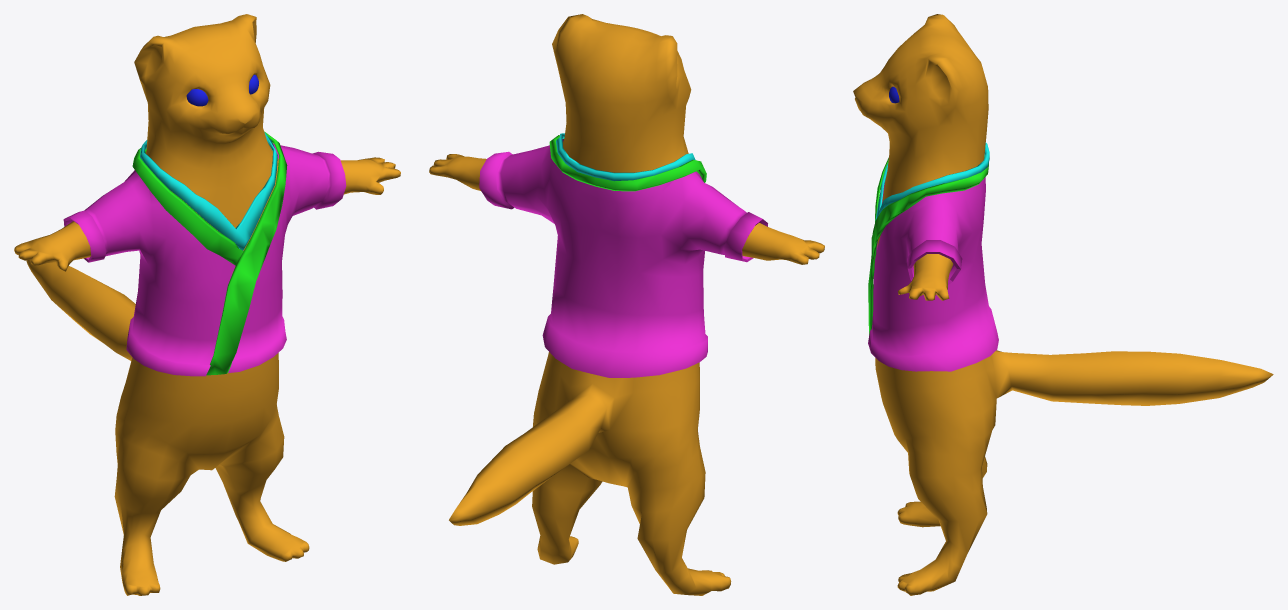
Rendered from Otter Buffer V3.fbx.
The picture shows the model from 3 angles, left to right: view 1: azimuth 30°, elevation 25°; view 2: azimuth 150°, elevation 25°; view 3: azimuth 270°, elevation 25°; orthographic projection. The views are drawn at different scales.
Parts seen in each view (by area): view 1: Bady_Mink.007; view 2: Bady_Mink.007; view 3: Bady_Mink.007.
Boxes of the visible parts, left/top/right/bottom form: Bady_Mink.007: left=14, top=14, right=400, bottom=595; Bady_Mink.007: left=429, top=14, right=824, bottom=595; Bady_Mink.007: left=853, top=14, right=1273, bottom=595.
Size of the model in its own units: 70.01 by 96.13 by 70.48.
